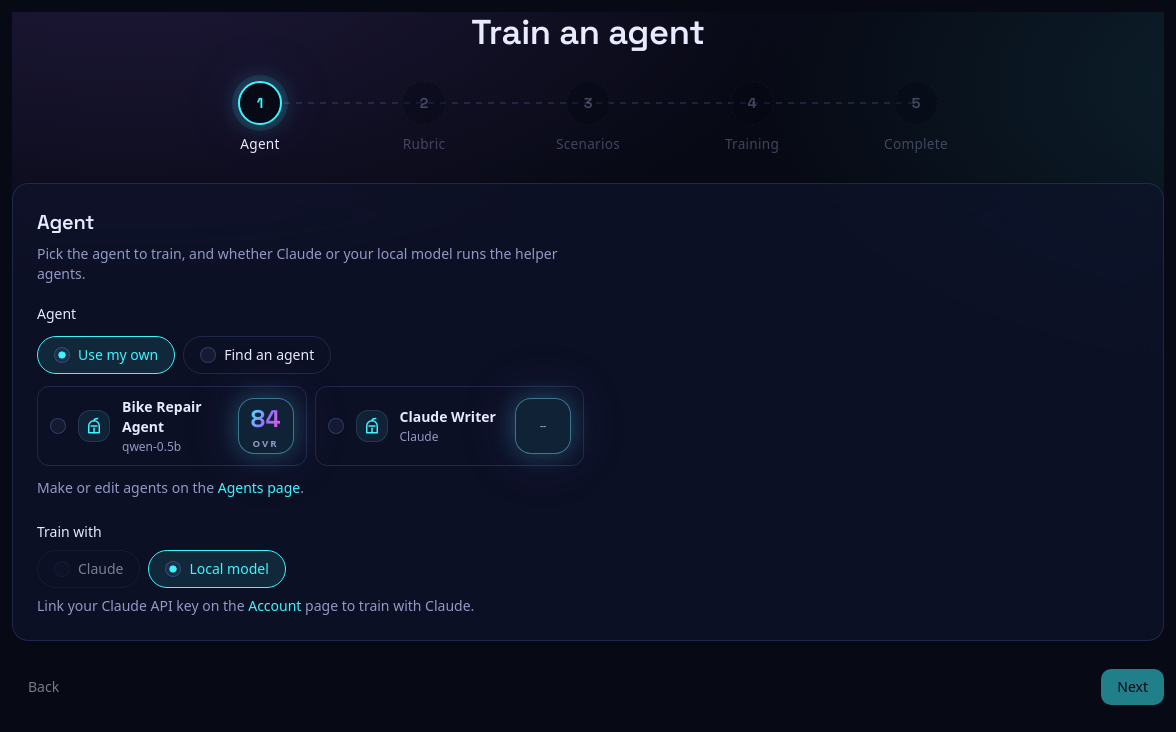
shows a failed start inline on the Scenarios slide
Step 1. Click the radio button named "Bike Repair Agent" in the row of "84" → {"x": 58, "y": 426}, box [50,418,66,434]
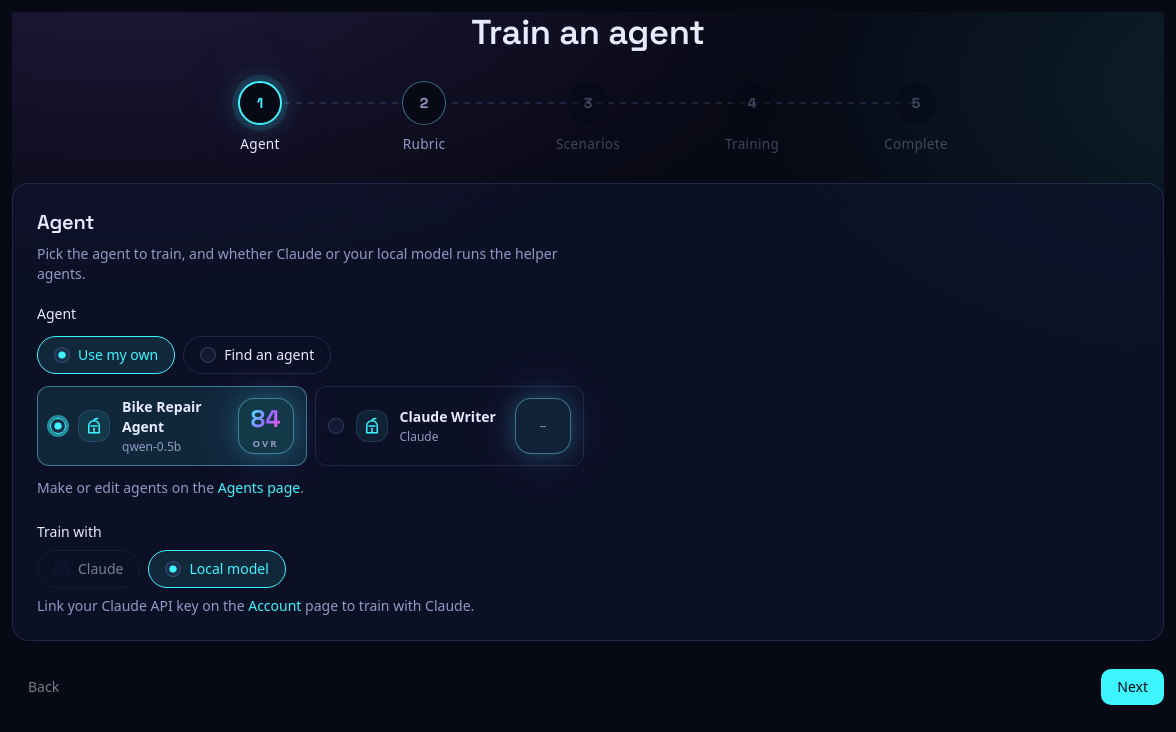
Step 2. Click the button "Next" → {"x": 1133, "y": 686}, box [1101,668,1164,704]
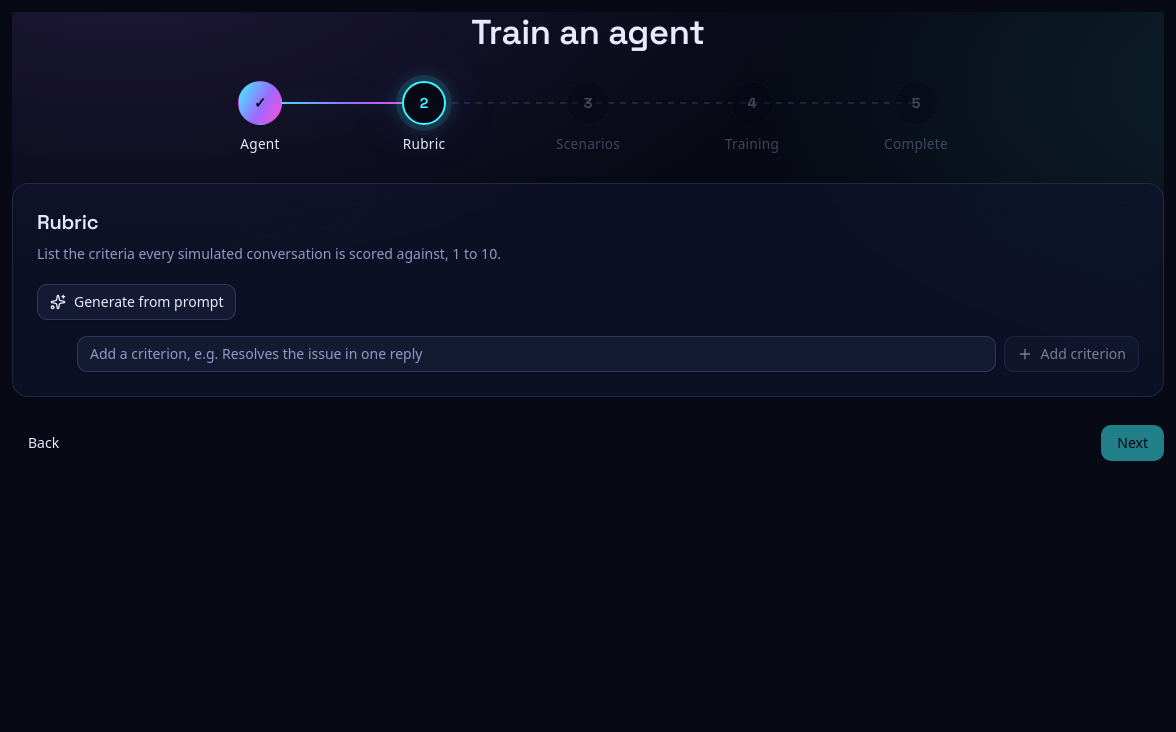
Step 3. Type "Clarity" into the field named "New criterion" → {"x": 536, "y": 354}, box [77,336,996,372]
Then press Enter
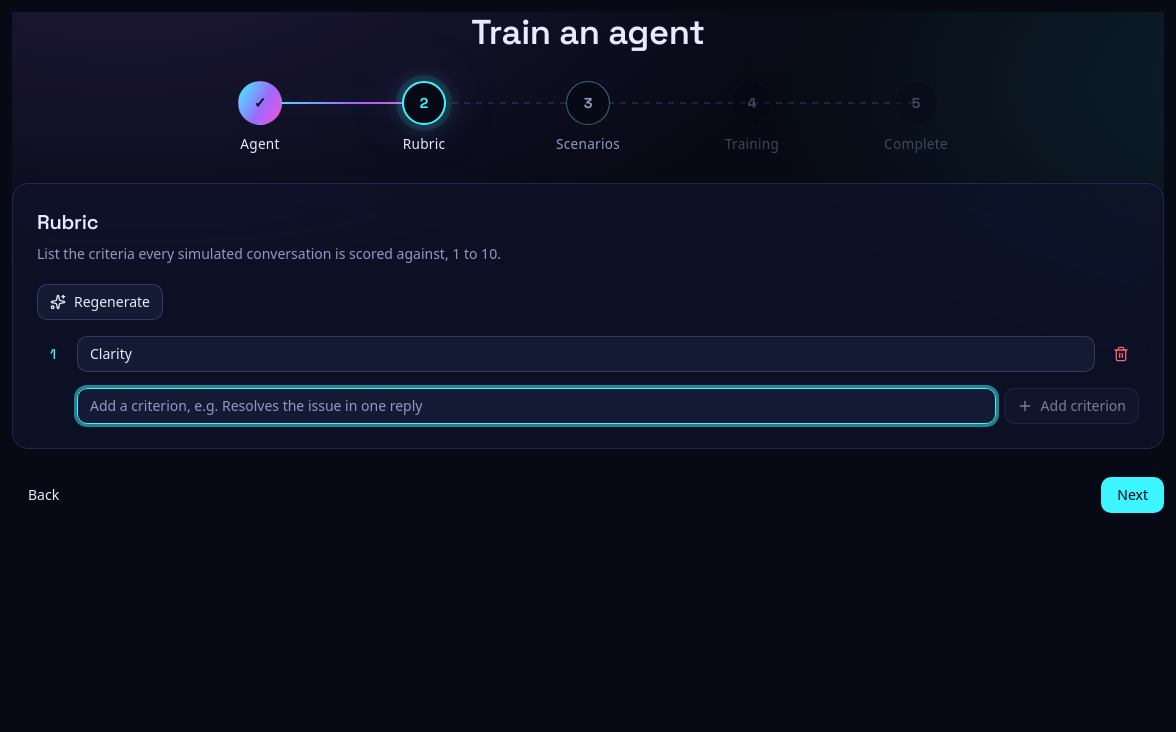
Step 4. Click the button "Next" → {"x": 1133, "y": 494}, box [1101,476,1164,512]
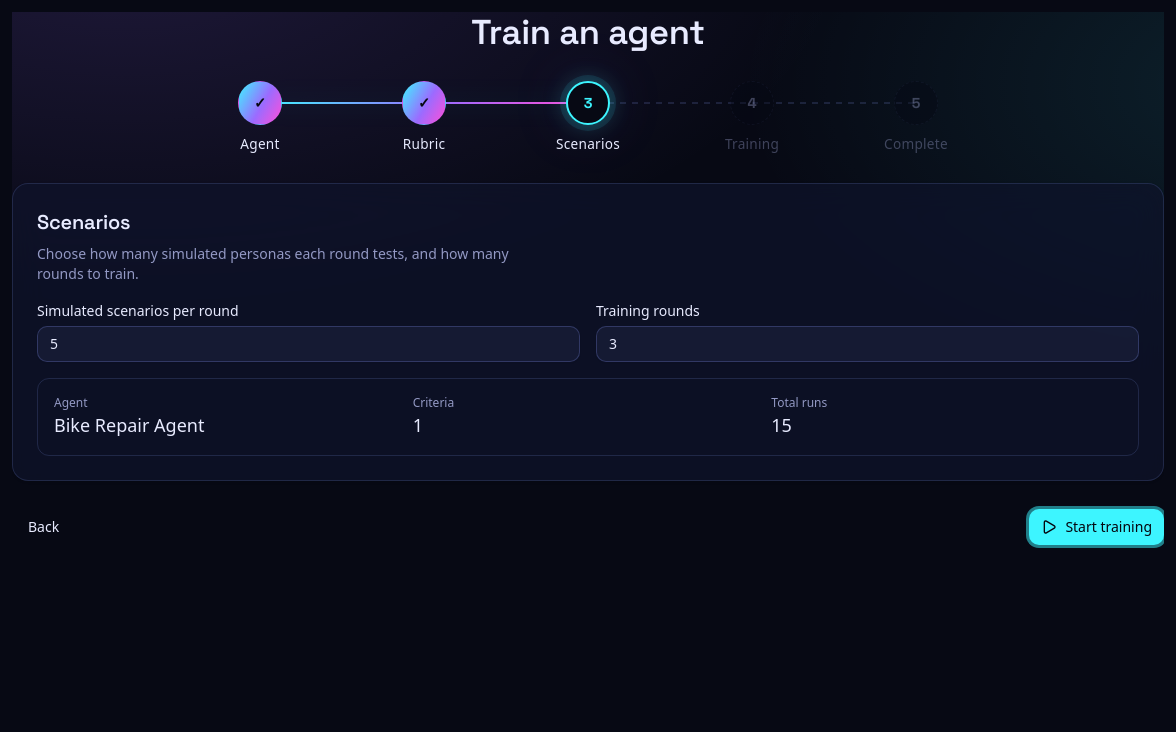
Step 5. Click the button "Start training" → {"x": 1097, "y": 526}, box [1029,508,1164,544]
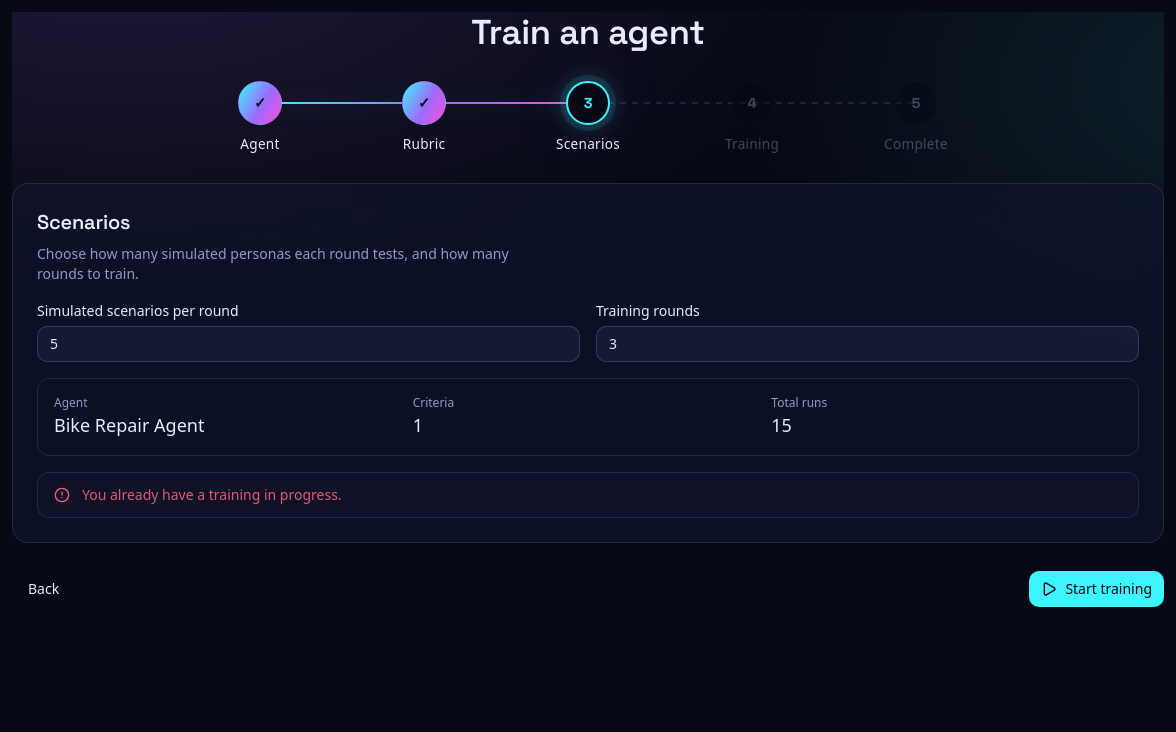
Result: the message reads "You already have a training in progress." at [82,484,342,504]
